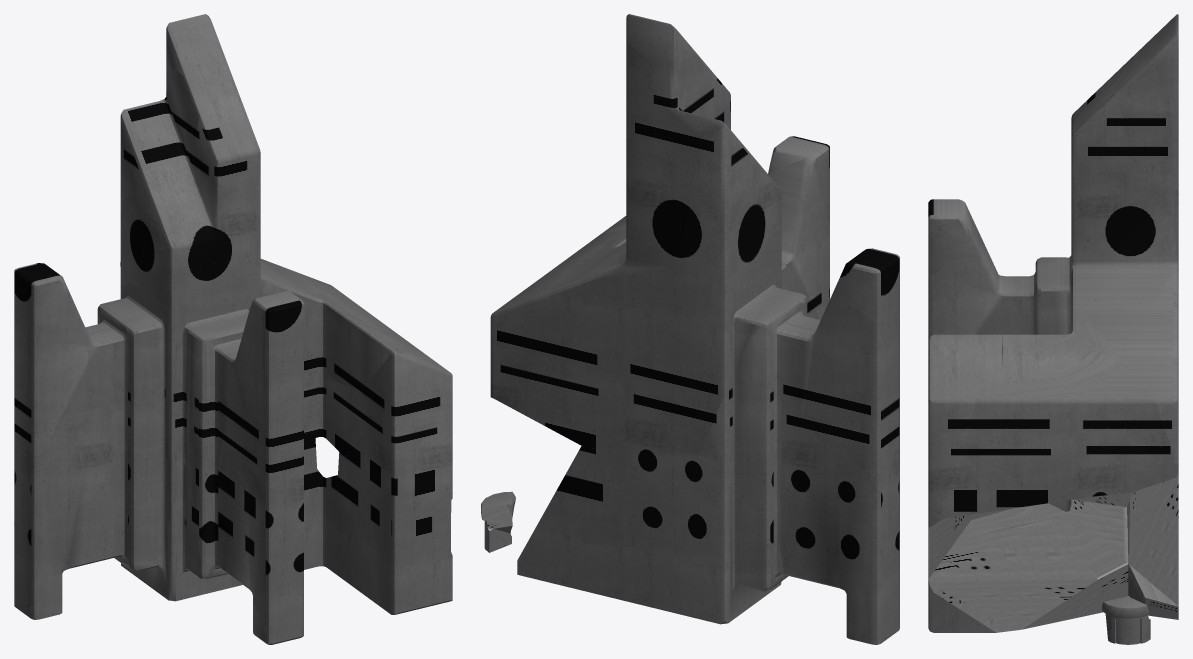
The model's file is AndyGebouw3_Broken.fbx.
The picture shows the model from 3 angles, left to right: view 1: azimuth 30°, elevation 25°; view 2: azimuth 150°, elevation 25°; view 3: azimuth 270°, elevation 25°; orthographic projection. The views are drawn at different scales.
Parts seen in each view (by area): view 1: Cyber Skyscraper.009_cell.002, Cyber Skyscraper.009_cell.074, Cyber Skyscraper.009_cell.010, Cyber Skyscraper.009_cell.090, Cyber Skyscraper.009_cell.073, Cyber Skyscraper.009_cell.031, Cyber Skyscraper.009_cell.081, Cyber Skyscraper.009_cell.095, Cyber Skyscraper.009_cell.060, Cyber Skyscraper.009_cell.085, Cyber Skyscraper.009_cell.012, Cyber Skyscraper.009_cell.017 (+36 smaller); view 2: Cyber Skyscraper.009_cell.051, Cyber Skyscraper.009_cell.094, Cyber Skyscraper.009_cell.028, Cyber Skyscraper.009_cell.089, Cyber Skyscraper.009_cell.004, Cyber Skyscraper.009_cell.039, Cyber Skyscraper.009_cell.068, Cyber Skyscraper.009_cell.072, Cyber Skyscraper.009_cell.097, Cyber Skyscraper.009_cell.046, Cyber Skyscraper.009_cell.090, Cyber Skyscraper.009_cell.023 (+21 smaller); view 3: Cyber Skyscraper.009_cell.081, Cyber Skyscraper.009_cell.040, Cyber Skyscraper.009_cell.022, Cyber Skyscraper.009_cell.090, Cyber Skyscraper.009_cell.089, Cyber Skyscraper.009_cell.002, Cyber Skyscraper.009_cell.095, Cyber Skyscraper.009_cell.094, Cyber Skyscraper.009_cell.023, Cyber Skyscraper.009_cell.009, Cyber Skyscraper.009_cell.012, Cyber Skyscraper.009_cell.030 (+15 smaller).
Part boxes in pixels (<box>): Cyber Skyscraper.009_cell.002: <box>358,352,452,500</box>; Cyber Skyscraper.009_cell.074: <box>23,311,112,461</box>; Cyber Skyscraper.009_cell.010: <box>369,470,451,614</box>; Cyber Skyscraper.009_cell.090: <box>228,334,303,482</box>; Cyber Skyscraper.009_cell.073: <box>112,446,187,564</box>; Cyber Skyscraper.009_cell.031: <box>247,478,302,622</box>; Cyber Skyscraper.009_cell.081: <box>304,469,452,606</box>; Cyber Skyscraper.009_cell.095: <box>270,270,385,411</box>; Cyber Skyscraper.009_cell.060: <box>102,314,164,451</box>; Cyber Skyscraper.009_cell.085: <box>185,327,231,460</box>; Cyber Skyscraper.009_cell.012: <box>192,94,260,192</box>; Cyber Skyscraper.009_cell.017: <box>188,455,242,577</box>; Cyber Skyscraper.009_cell.051: <box>626,440,784,624</box>; Cyber Skyscraper.009_cell.094: <box>490,258,649,453</box>; Cyber Skyscraper.009_cell.028: <box>795,292,893,469</box>; Cyber Skyscraper.009_cell.089: <box>517,446,649,606</box>; Cyber Skyscraper.009_cell.004: <box>646,275,763,451</box>; Cyber Skyscraper.009_cell.039: <box>701,304,803,466</box>; Cyber Skyscraper.009_cell.068: <box>674,206,754,312</box>; Cyber Skyscraper.009_cell.072: <box>587,265,675,399</box>; Cyber Skyscraper.009_cell.097: <box>860,460,889,644</box>; Cyber Skyscraper.009_cell.046: <box>802,462,840,588</box>; Cyber Skyscraper.009_cell.090: <box>781,202,829,319</box>; Cyber Skyscraper.009_cell.023: <box>601,182,682,267</box>; Cyber Skyscraper.009_cell.081: <box>928,499,1128,632</box>; Cyber Skyscraper.009_cell.040: <box>944,365,1095,518</box>; Cyber Skyscraper.009_cell.022: <box>1059,364,1178,496</box>; Cyber Skyscraper.009_cell.090: <box>928,242,1018,364</box>; Cyber Skyscraper.009_cell.089: <box>1127,475,1178,619</box>; Cyber Skyscraper.009_cell.002: <box>928,338,981,527</box>; Cyber Skyscraper.009_cell.095: <box>1002,300,1126,368</box>; Cyber Skyscraper.009_cell.094: <box>1124,302,1178,472</box>; Cyber Skyscraper.009_cell.023: <box>1121,187,1178,303</box>; Cyber Skyscraper.009_cell.009: <box>1071,169,1153,236</box>; Cyber Skyscraper.009_cell.012: <box>1071,79,1133,170</box>; Cyber Skyscraper.009_cell.030: <box>1121,111,1178,188</box>.
Size of the model in its own units: 4820 by 6712 by 2832.
